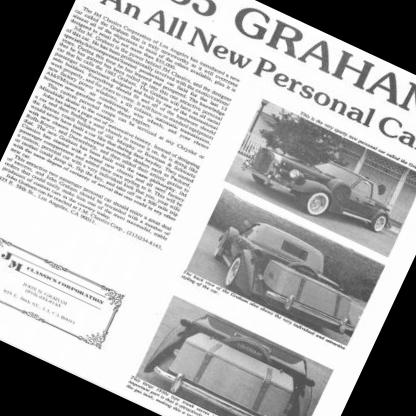car: (199, 204, 386, 354), (227, 110, 411, 258)
